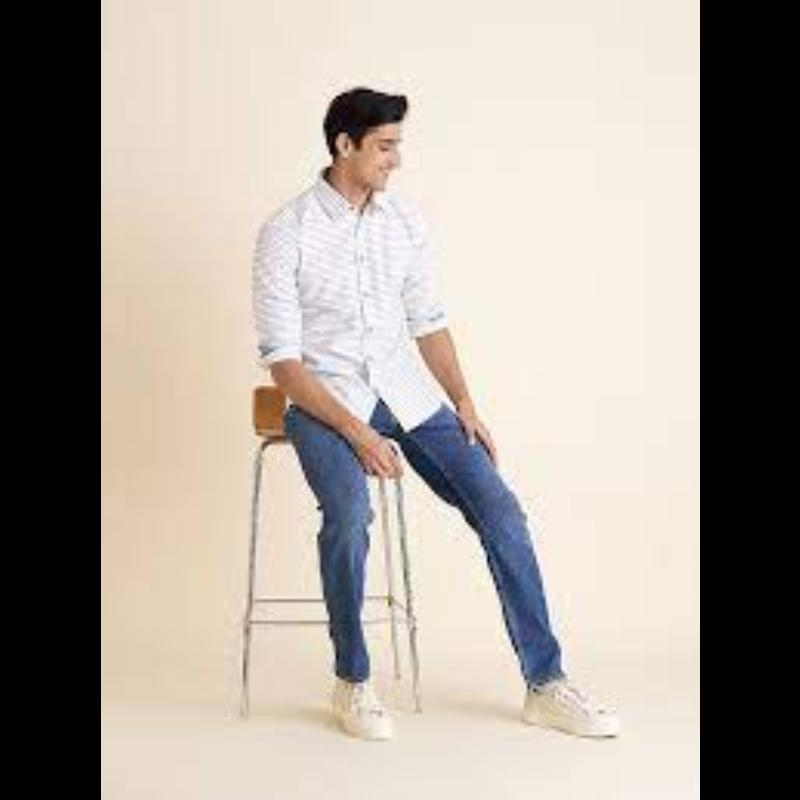Jeans: (255, 403, 578, 696)
Shirt: (240, 172, 485, 448)
